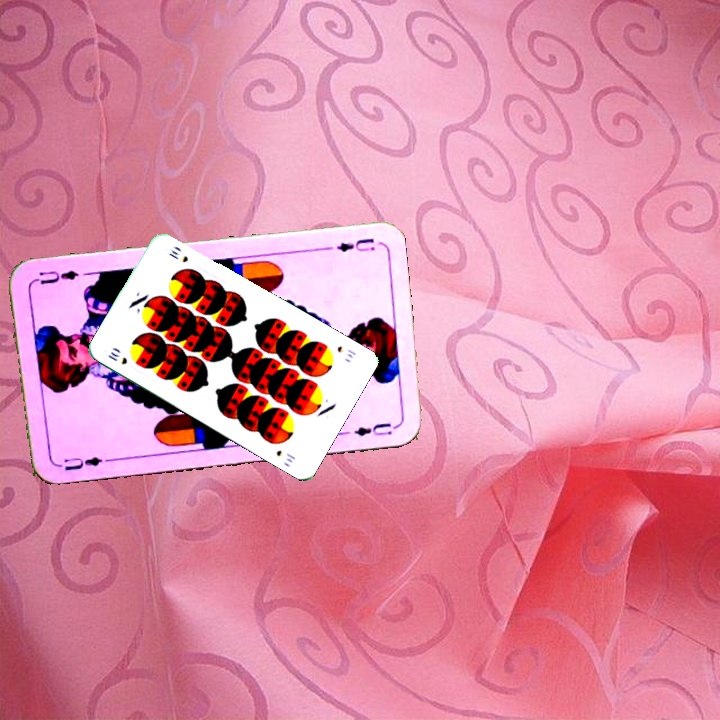EU: (51, 452, 110, 473), (332, 234, 378, 255)
S10: (104, 347, 130, 367), (333, 342, 358, 361)
